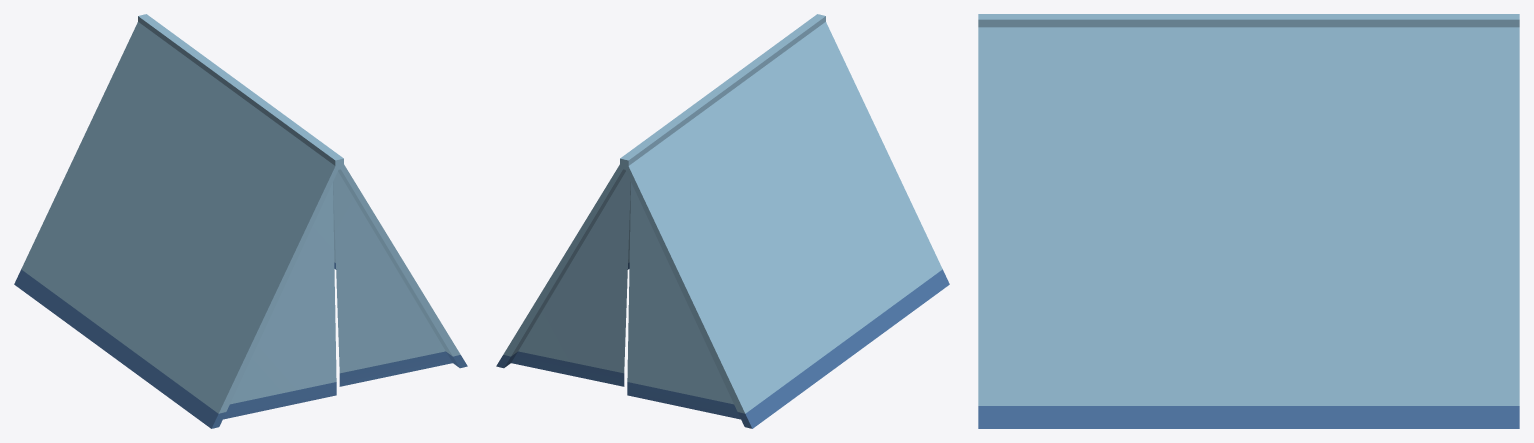
The model's file is CampingTent02.fbx.
3 views of the same model, side by side, from view 1: azimuth 30°, elevation 25°; view 2: azimuth 150°, elevation 25°; view 3: azimuth 270°, elevation 25° (orthographic). The views are drawn at different scales.
Parts seen in each view (by area): view 1: Camp_Tent1; view 2: Camp_Tent1; view 3: Camp_Tent1.
Part boxes in pixels (x1,y1,x2,y2): Camp_Tent1: [14, 14, 467, 428]; Camp_Tent1: [496, 14, 949, 428]; Camp_Tent1: [978, 14, 1519, 428].
Bounding box in the file's own units: 59.06 × 78.74 × 52.41.
